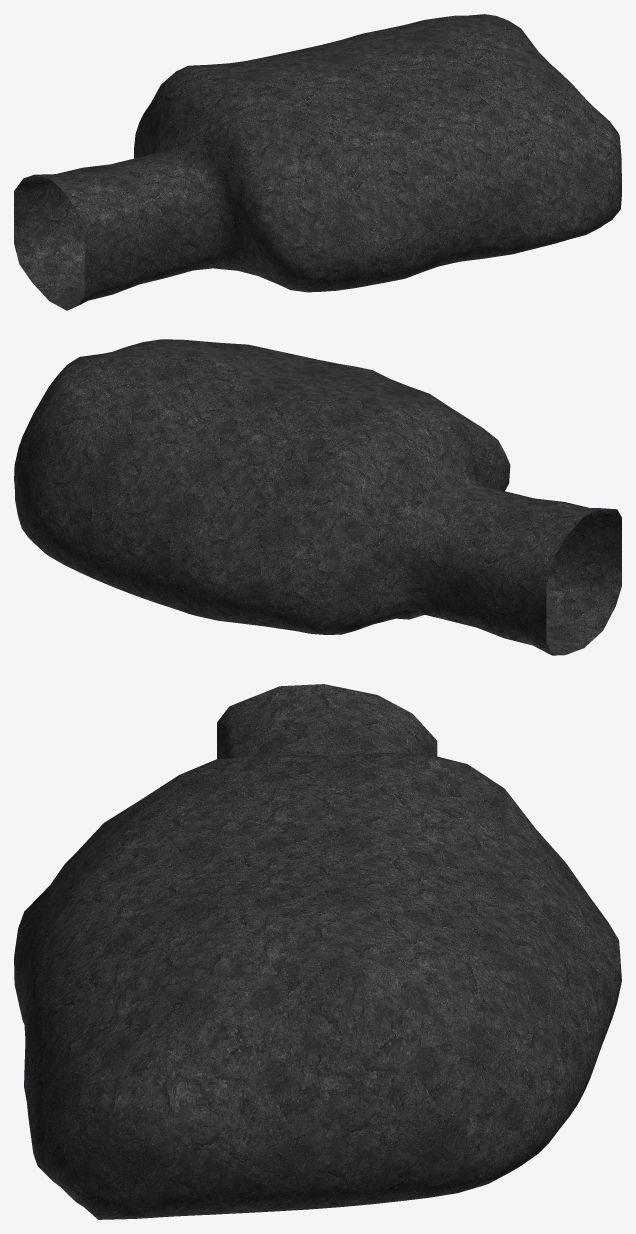
File: CaveRoom2.glb
3 views of the same model, one above another, from view 1: azimuth 30°, elevation 25°; view 2: azimuth 150°, elevation 25°; view 3: azimuth 270°, elevation 25° (orthographic). The views are drawn at different scales.
Visible parts, largest first — view 1: Cube.010; view 2: Cube.010; view 3: Cube.010.
Boxes of the visible parts, x1=… form: Cube.010: x1=14, y1=14, x2=621, y2=310; Cube.010: x1=14, y1=339, x2=621, y2=655; Cube.010: x1=14, y1=684, x2=621, y2=1219.
Bounding box in the file's own units: 30.51 × 9.6 × 20.02.
1 material, 1 textured.
